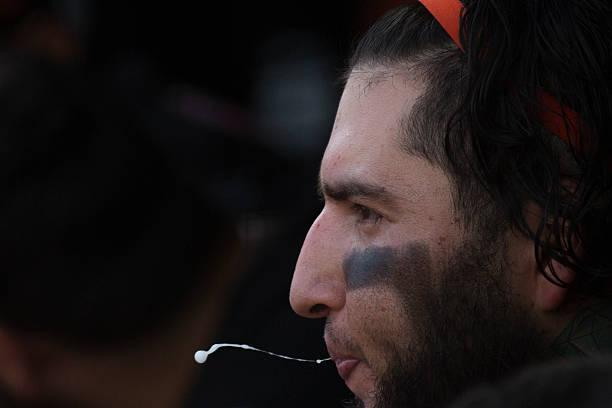Spitting: (176, 3, 612, 408)
